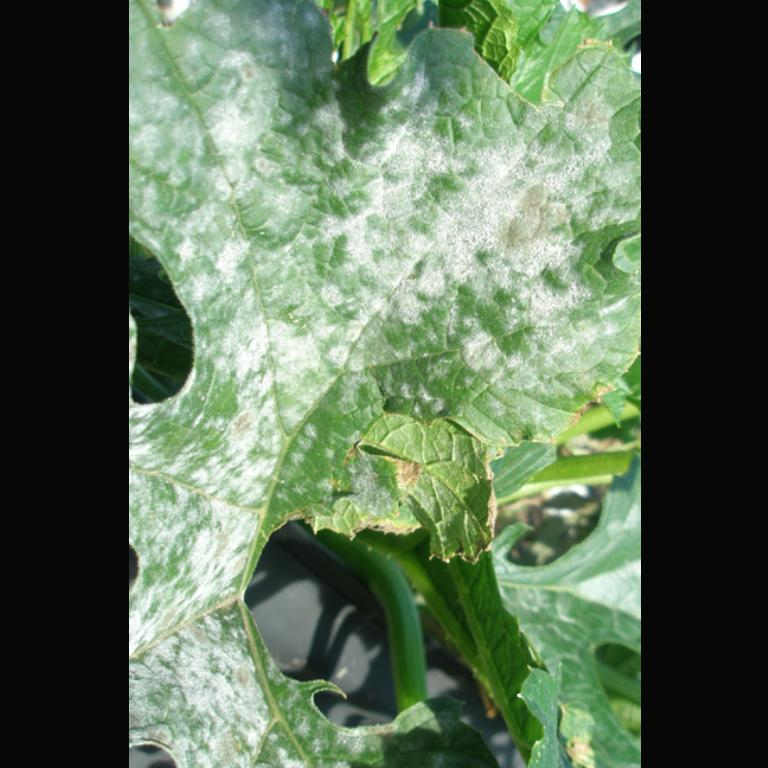powdery-mildew: (328, 110, 582, 362), (148, 415, 264, 595), (188, 58, 284, 274)
